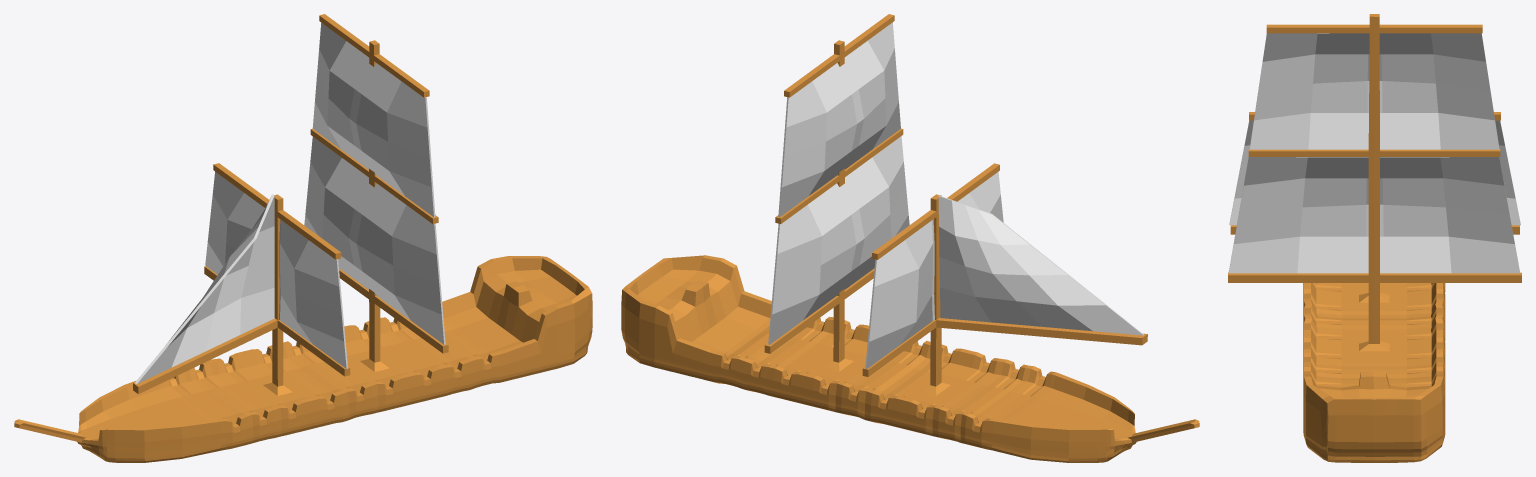
The model's file is brigantine.glb.
3 views of the same model, side by side, from view 1: azimuth 30°, elevation 25°; view 2: azimuth 150°, elevation 25°; view 3: azimuth 270°, elevation 25° (orthographic). The views are drawn at different scales.
Visible parts, largest first — view 1: Cube; view 2: Cube; view 3: Cube.
Boxes of the visible parts, box(x1,y1,x2,y2) form: Cube: box(14, 14, 592, 462); Cube: box(621, 14, 1199, 462); Cube: box(1228, 14, 1521, 462).
Bounding box in the file's own units: 36.7 × 21.97 × 16.29.
